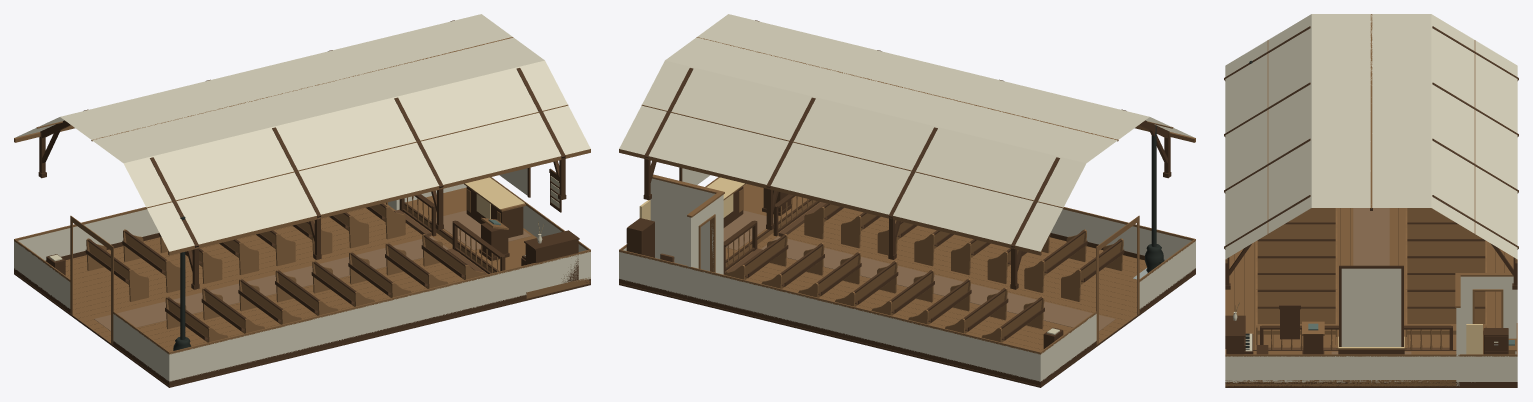
File: SM_Town_Church_Interior_LOD1.fbx
3 views of the same model, side by side, from view 1: azimuth 30°, elevation 25°; view 2: azimuth 150°, elevation 25°; view 3: azimuth 270°, elevation 25° (orthographic). The views are drawn at different scales.
Visible parts, largest first — view 1: SM_Town_Church_Interior_LOD1; view 2: SM_Town_Church_Interior_LOD1; view 3: SM_Town_Church_Interior_LOD1.
Boxes of the visible parts, x1=… form: SM_Town_Church_Interior_LOD1: x1=14, y1=14, x2=590, y2=387; SM_Town_Church_Interior_LOD1: x1=619, y1=14, x2=1195, y2=387; SM_Town_Church_Interior_LOD1: x1=1224, y1=14, x2=1518, y2=387.
Size of the model in its own units: 13.8 by 8.87 by 5.98.
